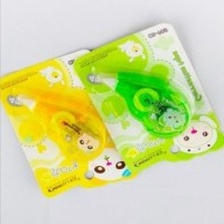book: (71, 20, 224, 177), (0, 46, 140, 201)
correction_fluid: (9, 89, 108, 165), (89, 68, 192, 139)
